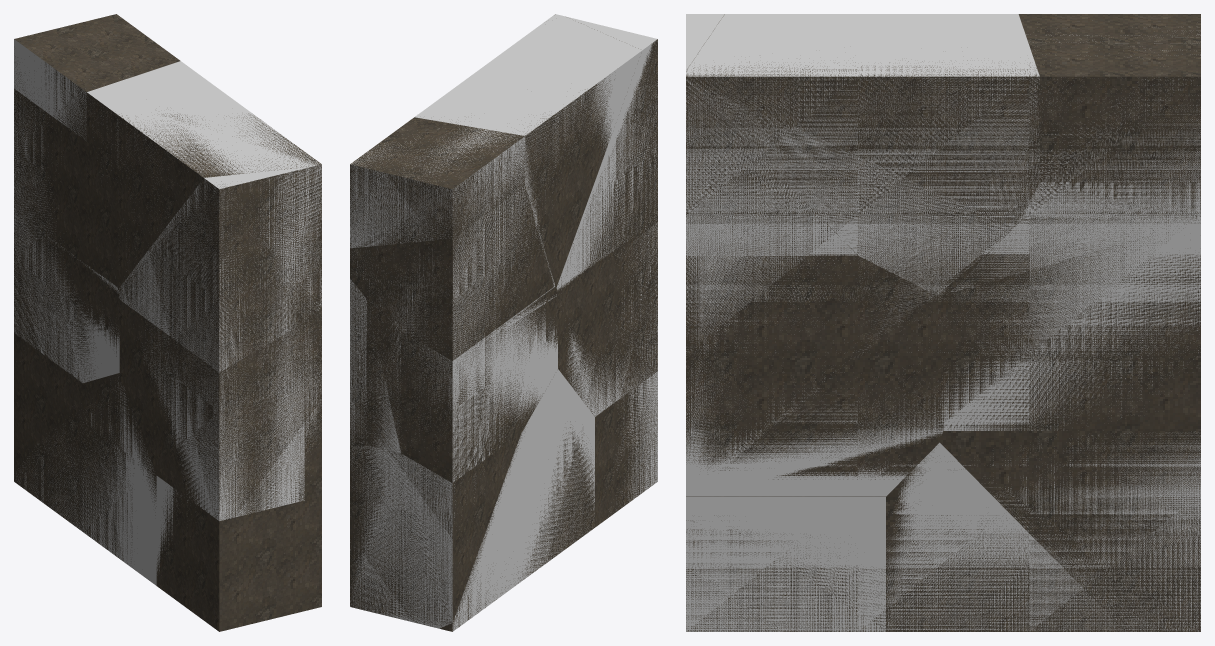
Rendered from Wall.fbx.
3 views of the same model, side by side, from view 1: azimuth 30°, elevation 25°; view 2: azimuth 150°, elevation 25°; view 3: azimuth 270°, elevation 25° (orthographic). The views are drawn at different scales.
Parts seen in each view (by area): view 1: wall, wall_cell.006, wall_cell, wall_cell.005, wall_cell.008, wall_cell.007, wall_cell.011, wall_cell.002, wall_cell.010, wall_cell.009; view 2: wall, wall_cell.005, wall_cell.008, wall_cell.001, wall_cell.007, wall_cell.011, wall_cell.006, wall_cell.002, wall_cell, wall_cell.010, wall_cell.003, wall_cell.004; view 3: wall, wall_cell.005, wall_cell.003, wall_cell.010, wall_cell.008, wall_cell.009, wall_cell.001, wall_cell.006, wall_cell.002, wall_cell.011.
Part boxes in pixels (<box>): wall: <box>14,14,321,631</box>; wall_cell.006: <box>118,166,321,372</box>; wall_cell: <box>142,325,304,520</box>; wall_cell.005: <box>87,61,321,271</box>; wall_cell.008: <box>16,377,156,585</box>; wall_cell.007: <box>14,211,119,382</box>; wall_cell.011: <box>14,39,86,140</box>; wall_cell.002: <box>14,89,61,243</box>; wall_cell.010: <box>156,476,188,575</box>; wall_cell.009: <box>305,319,321,461</box>; wall: <box>350,22,657,631</box>; wall_cell.005: <box>414,14,642,244</box>; wall_cell.008: <box>452,369,594,631</box>; wall_cell.001: <box>350,445,474,628</box>; wall_cell.007: <box>402,286,557,482</box>; wall_cell.011: <box>350,125,525,248</box>; wall_cell.006: <box>556,16,657,290</box>; wall_cell.002: <box>350,186,554,360</box>; wall_cell: <box>566,222,657,416</box>; wall_cell.010: <box>613,371,657,510</box>; wall_cell.003: <box>350,279,366,446</box>; wall_cell.004: <box>367,302,401,452</box>; wall: <box>686,14,1200,631</box>; wall_cell.005: <box>686,14,1039,295</box>; wall_cell.003: <box>943,219,1200,430</box>; wall_cell.010: <box>686,497,885,631</box>; wall_cell.008: <box>886,442,1125,631</box>; wall_cell.009: <box>686,256,943,496</box>; wall_cell.001: <box>963,431,1200,631</box>; wall_cell.006: <box>686,14,857,255</box>; wall_cell.002: <box>1022,182,1200,219</box>; wall_cell.011: <box>1026,34,1200,182</box>.
Size of the model in its own units: 200 by 825 by 694.
1 material, 1 textured.
